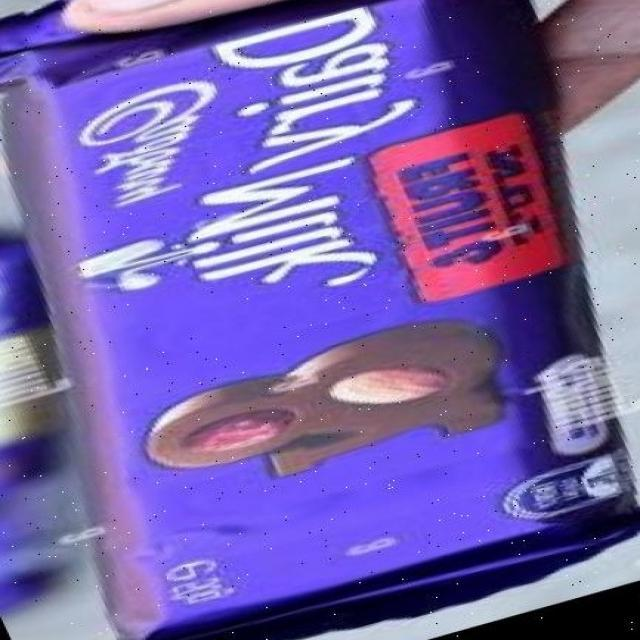Dry Waste: (6, 24, 639, 640)
